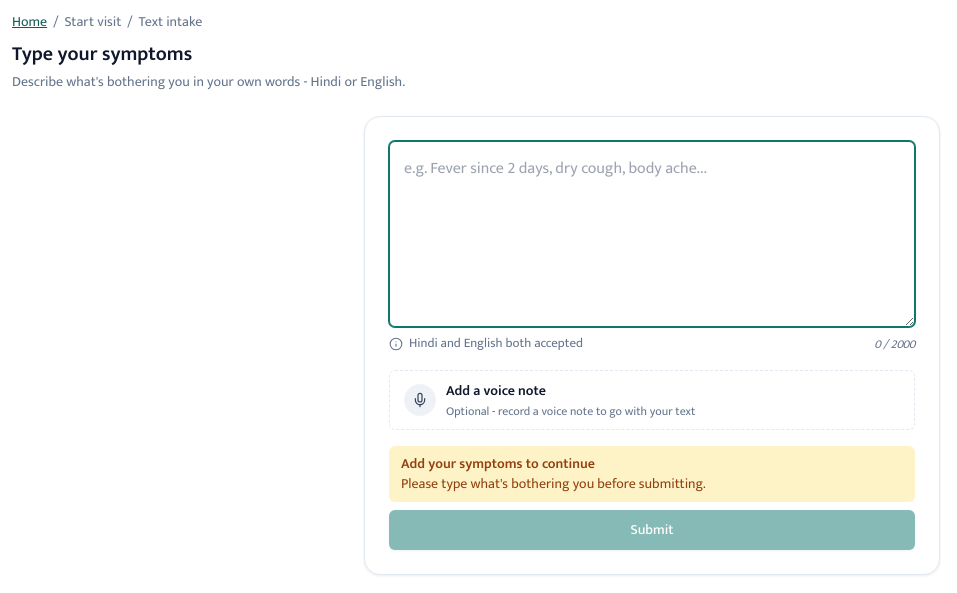
TextIntakePage optional voice-note attach (doctor-only) › does not gate the text submit: submit stays disabled only while recording
Step 1. Click the button with test id "note-attach" → coordinates (652, 400), box [389,370,915,430]
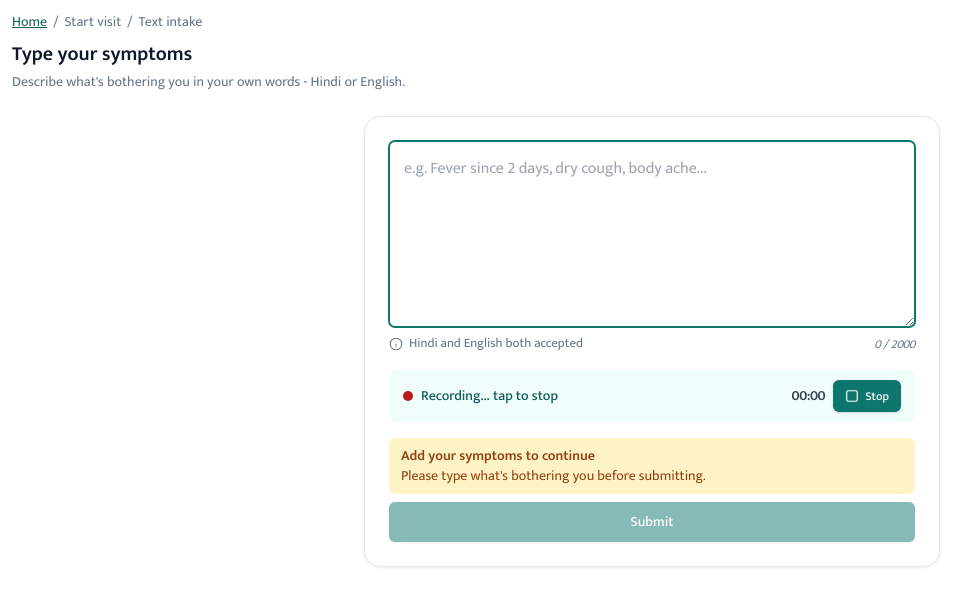
Step 2. Type "fever" into the text box with test id "textarea" → coordinates (652, 234), box [389,141,915,327]
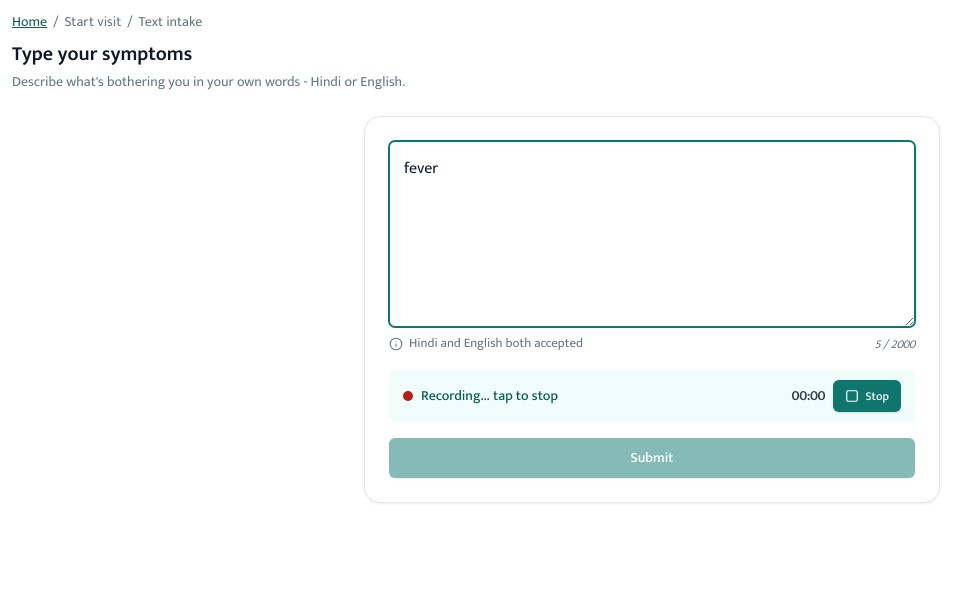
Expected: the button with test id "btn-submit" is disabled, [389,438,915,478]
Step 3. Click the button with test id "note-stop" → coordinates (867, 396), box [833,380,901,412]
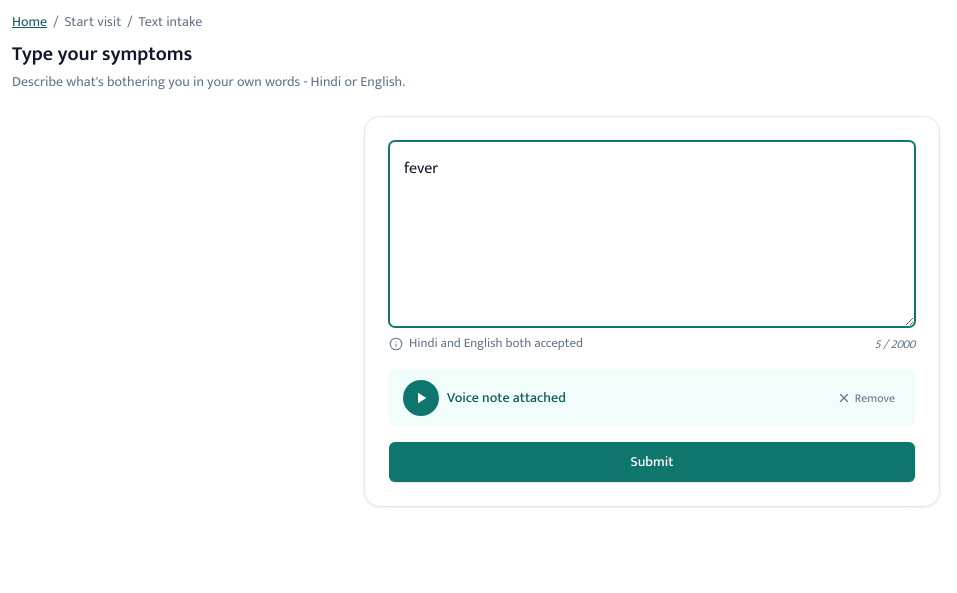
Now the button with test id "btn-submit" is enabled, box [389,442,915,482]
